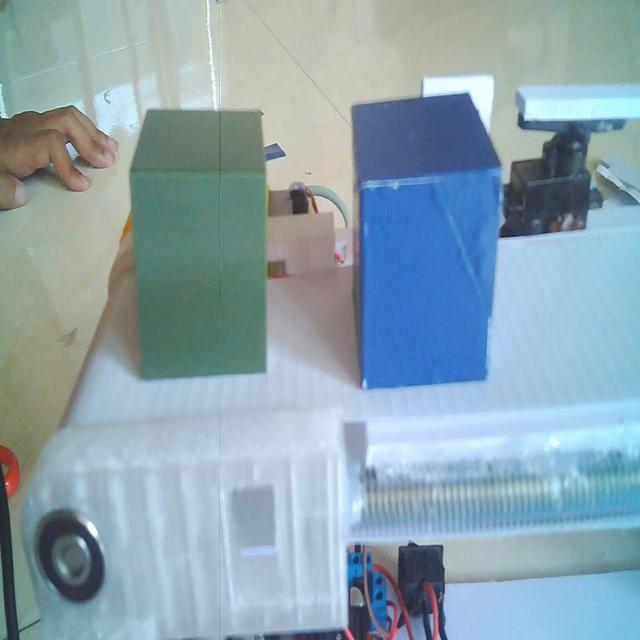blue: (341, 83, 506, 396)
green: (124, 94, 275, 386)
